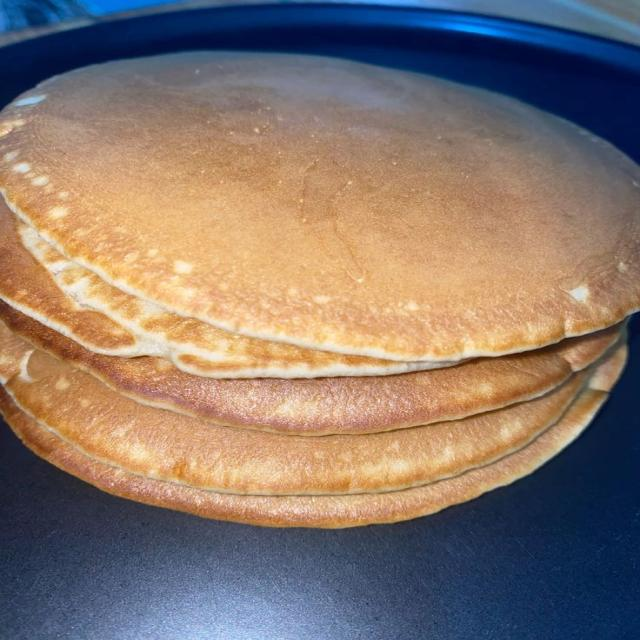pancake: (0, 52, 639, 361), (0, 346, 626, 527), (5, 350, 589, 495), (0, 302, 620, 435), (0, 198, 446, 378), (19, 224, 454, 378)
